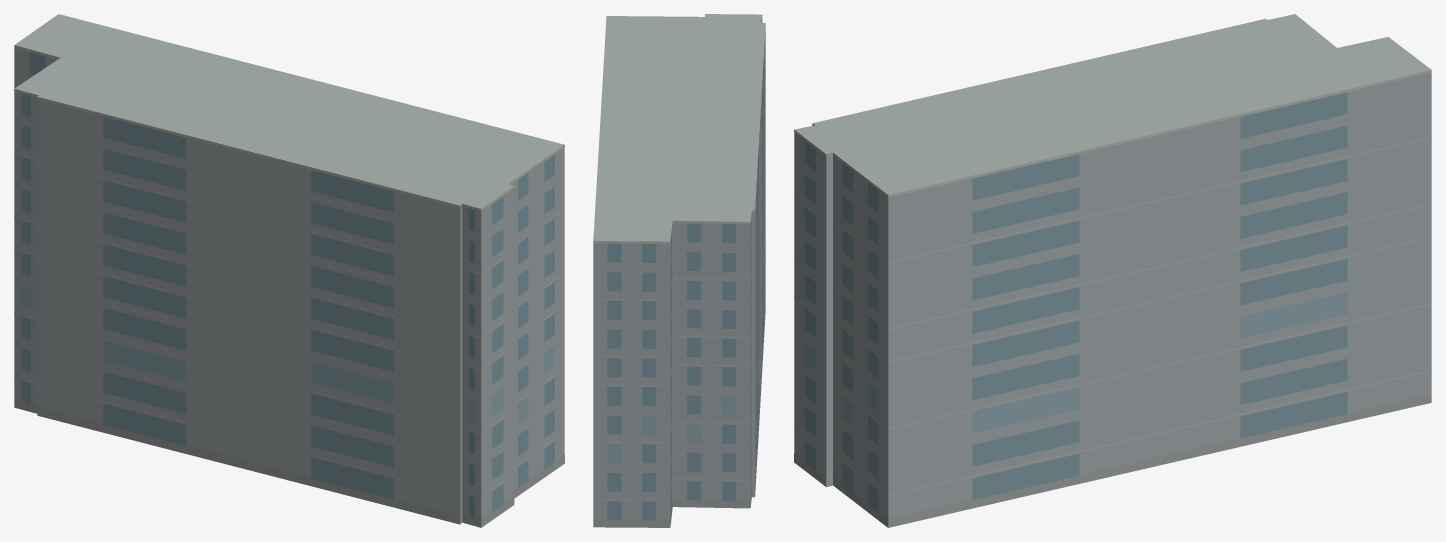
The model's file is survey-upis-32776444.glb.
The picture shows the model from 3 angles, left to right: view 1: azimuth 30°, elevation 25°; view 2: azimuth 150°, elevation 25°; view 3: azimuth 270°, elevation 25°; orthographic projection. The views are drawn at different scales.
Parts seen in each view (by area): view 1: survey-upis-32776444.tmp; view 2: survey-upis-32776444.tmp; view 3: survey-upis-32776444.tmp.
Part boxes in pixels (<box>): survey-upis-32776444.tmp: <box>14,14,564,527</box>; survey-upis-32776444.tmp: <box>593,14,765,527</box>; survey-upis-32776444.tmp: <box>794,14,1431,527</box>.
Size of the model in its own units: 35.6 by 30.5 by 52.97.
